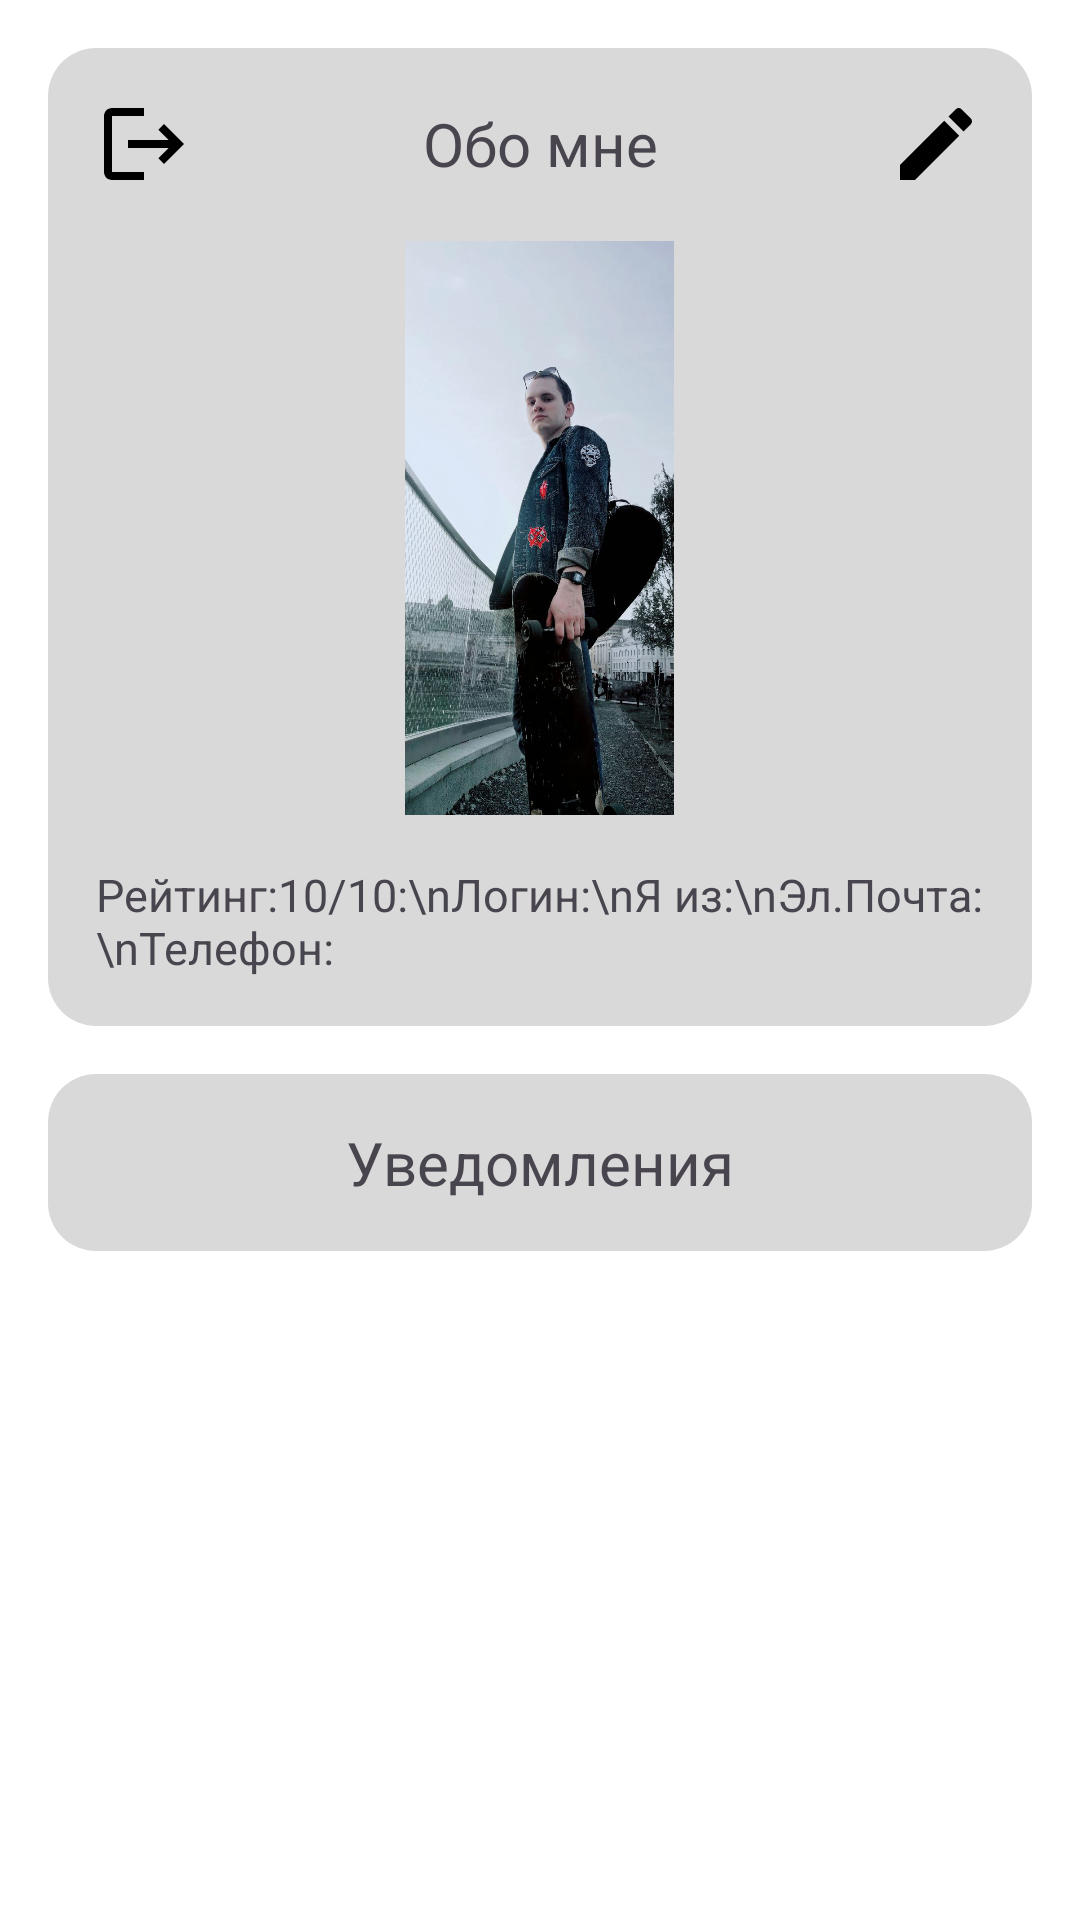

Icon bounding boxes for this 1080x1920 phone screenshot, format [left=x1, top=y1, right=x2, bottom=y2]:
edit: [left=900, top=108, right=972, bottom=180]
